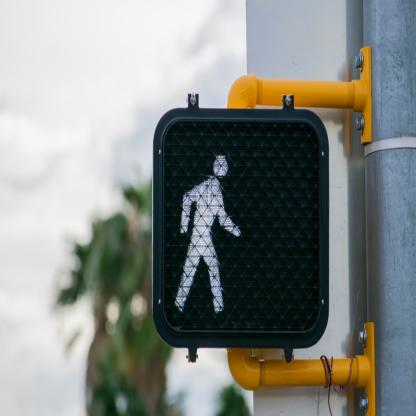Walk: (152, 106, 334, 345)
